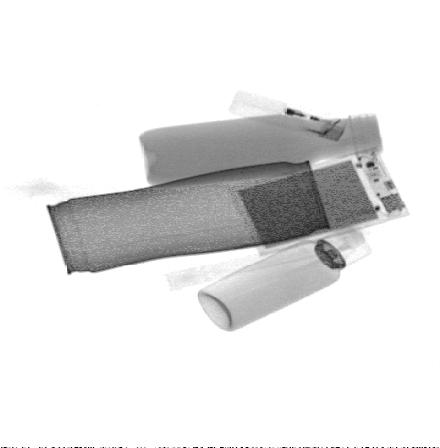Lighter: (227, 91, 349, 141)
Powerbank: (230, 144, 411, 257)
Sprayer: (198, 225, 372, 333)
